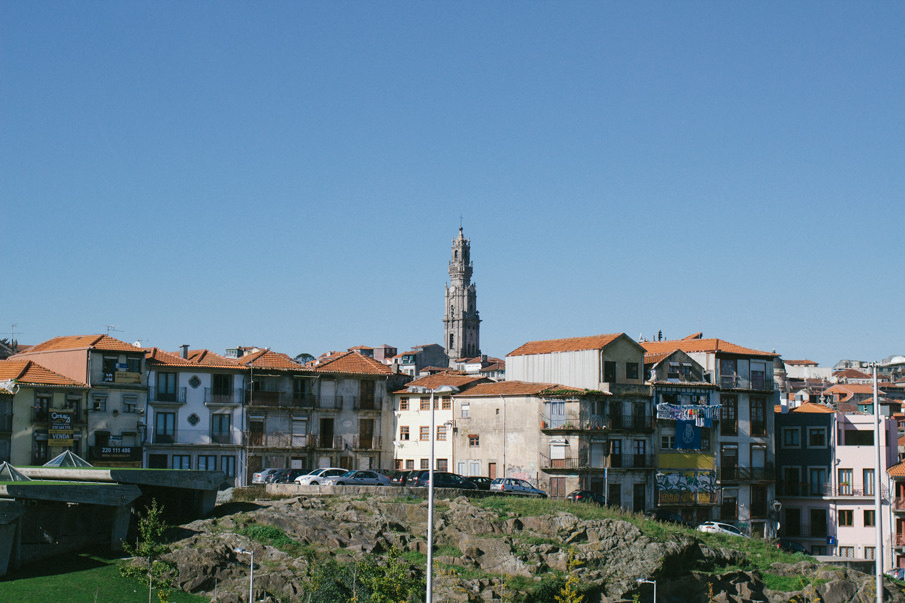clerigos: (442, 212, 483, 365)
